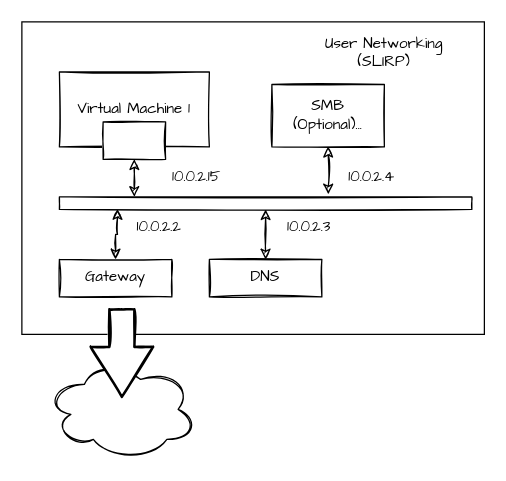
This 506x481 diagram has some shape labels left out. Each missing label, with the centre of its shape:
"eth0" belongs at [134,140].
"internet" belongs at [121,408].
